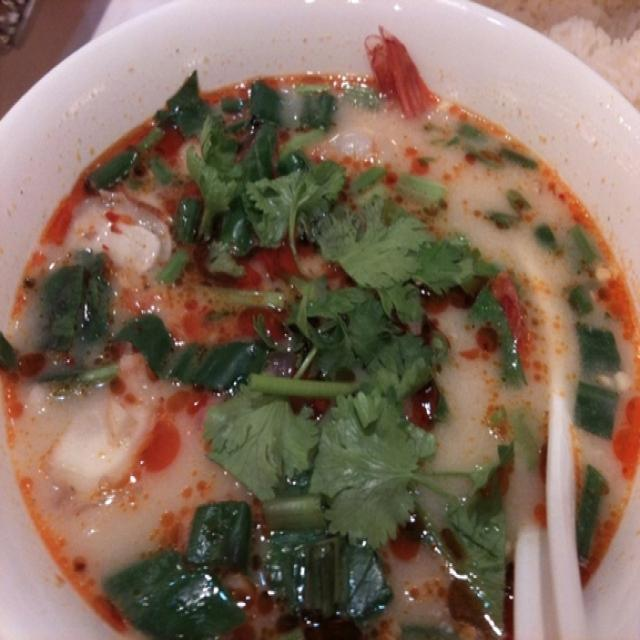汤锅炖物: (10, 13, 628, 628)
